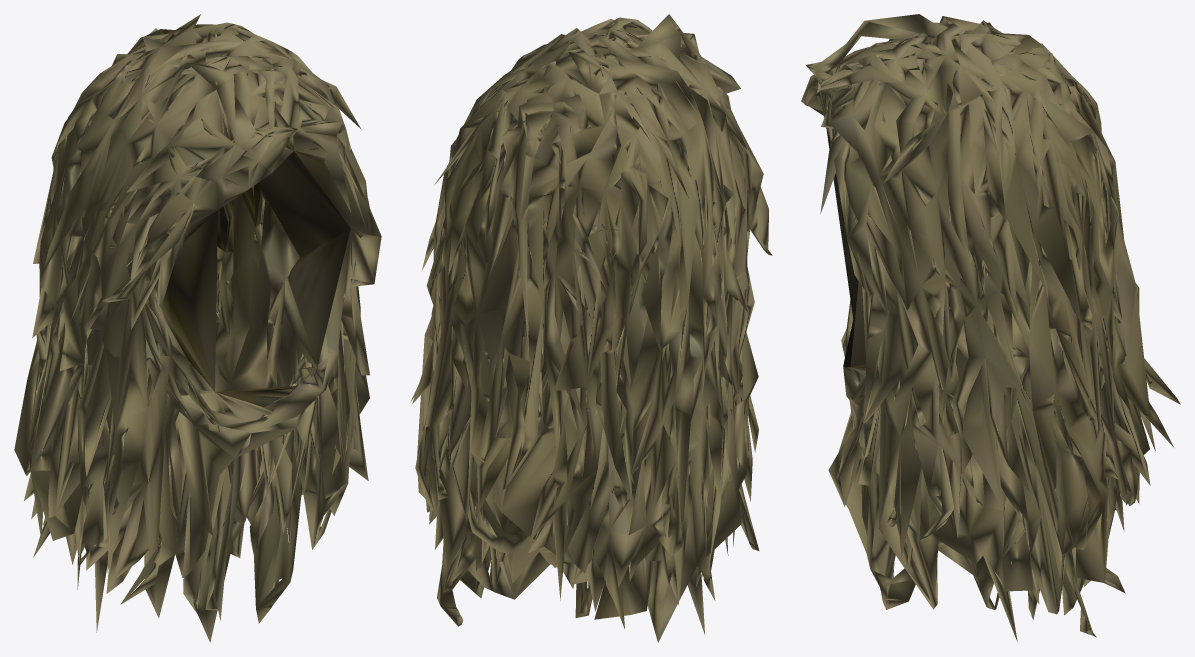
The model's file is ghillie-web.glb.
The picture shows the model from 3 angles, left to right: view 1: azimuth 30°, elevation 25°; view 2: azimuth 150°, elevation 25°; view 3: azimuth 270°, elevation 25°; orthographic projection. The views are drawn at different scales.
Size of the model in its own units: 0.4336 by 0.78 by 0.4575.
1 material, 1 textured.
